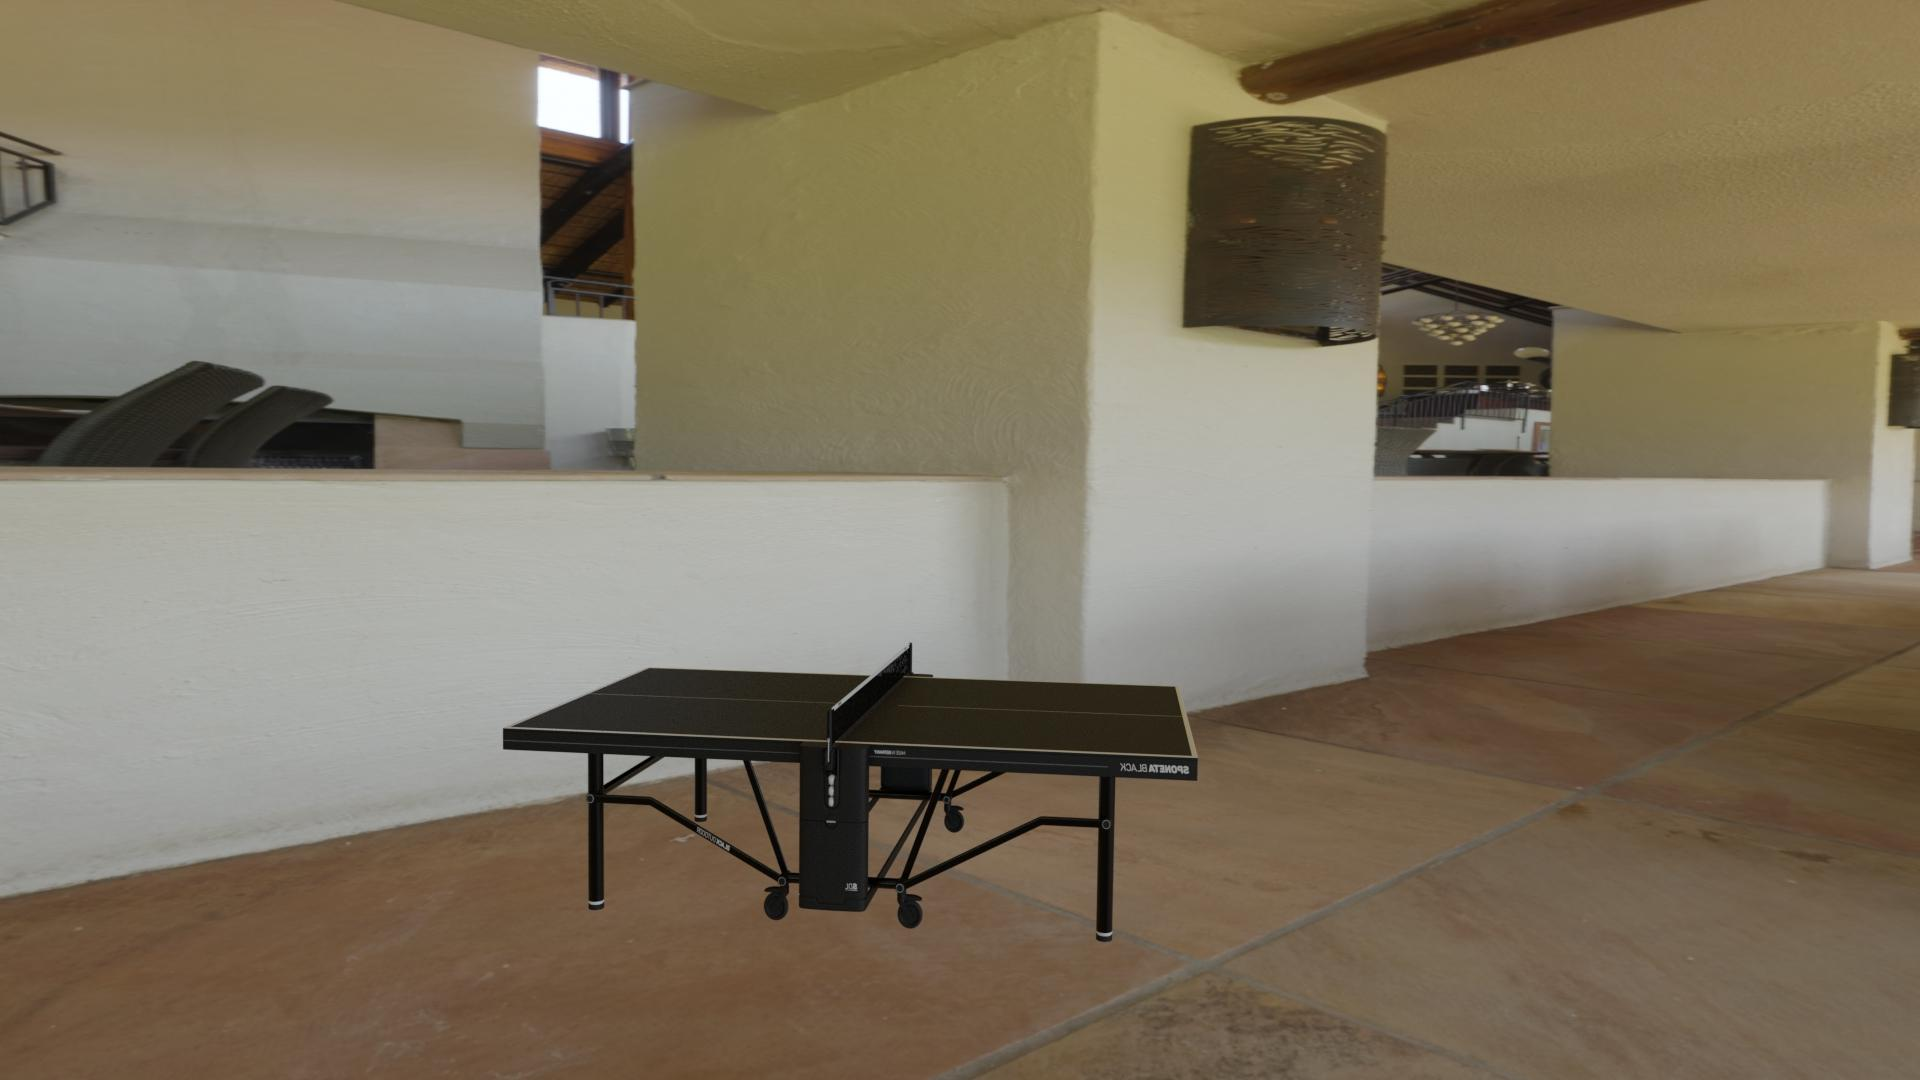table: (510, 667, 1192, 756)
